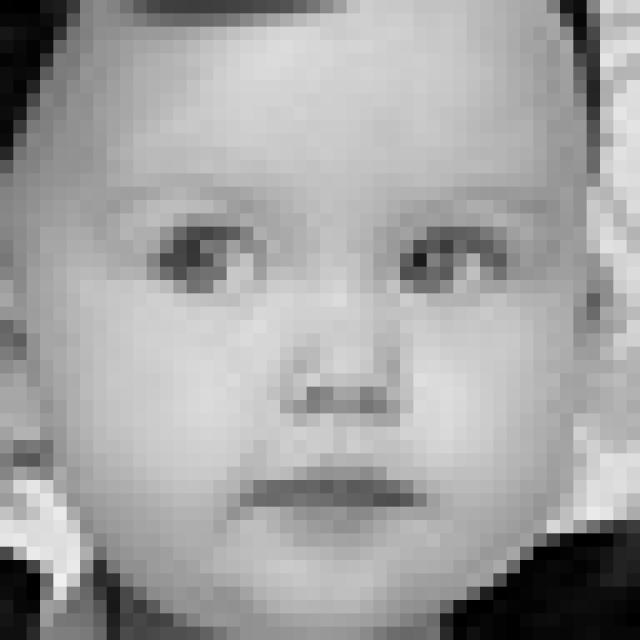neutral: (93, 167, 570, 564)
